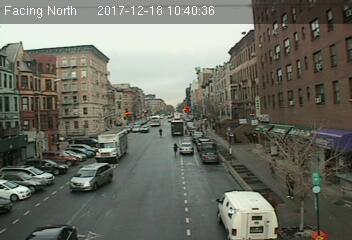car: (70, 161, 112, 195), (199, 150, 219, 164), (178, 142, 194, 155)
truck: (216, 189, 277, 237), (94, 128, 127, 160)
ups: (170, 120, 184, 136)
